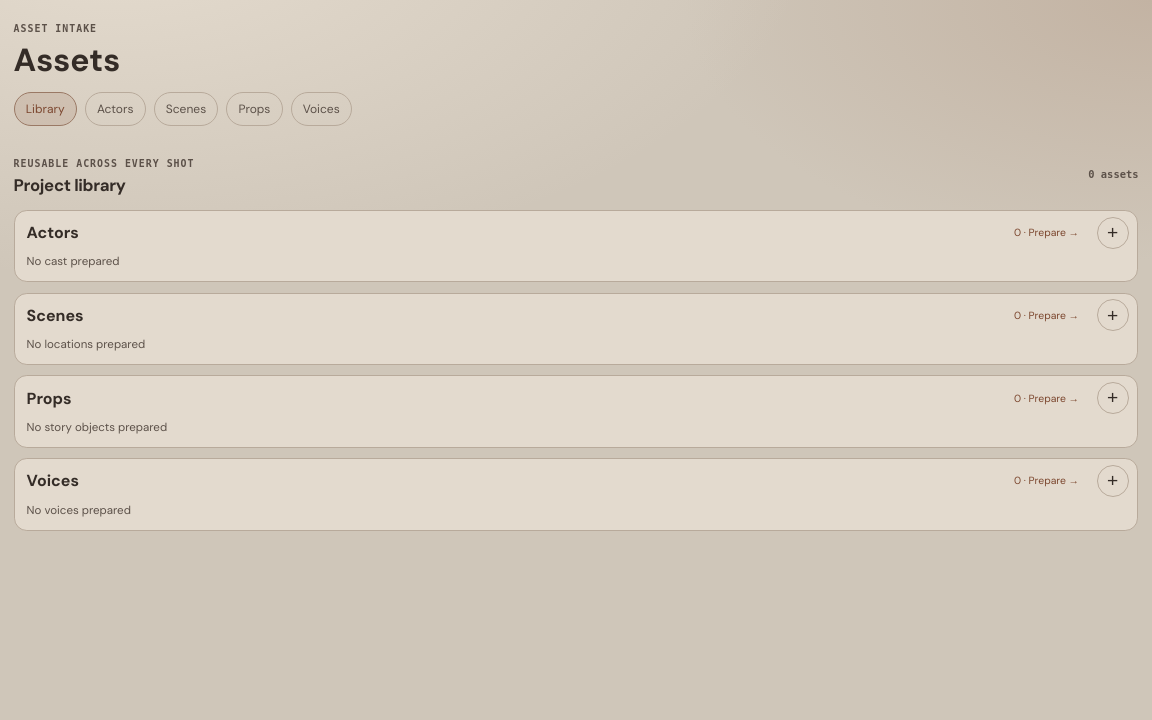
Scenario: MobileAssetWorkspace › opens import from the labeled action inside a mobile category
Expected: the button "Import" is not shown
Click the button "Props" at (254, 109), box [226,92,283,126]
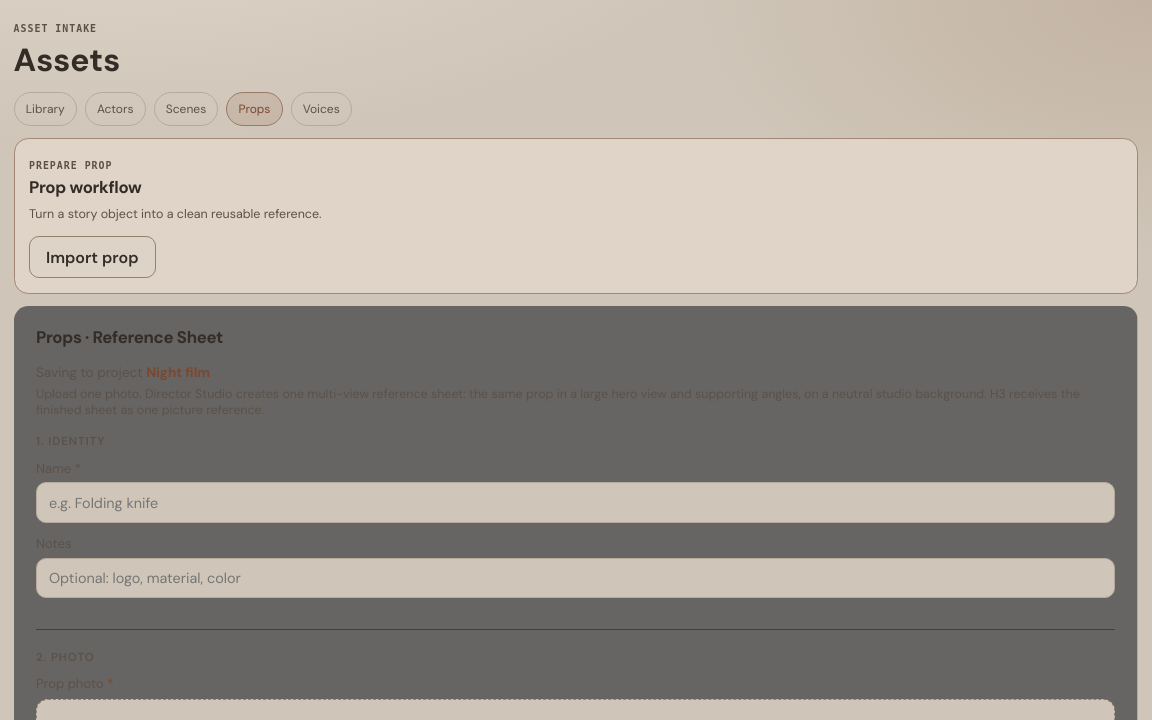
Click the button "Import prop" at (92, 257), box [29,236,156,278]
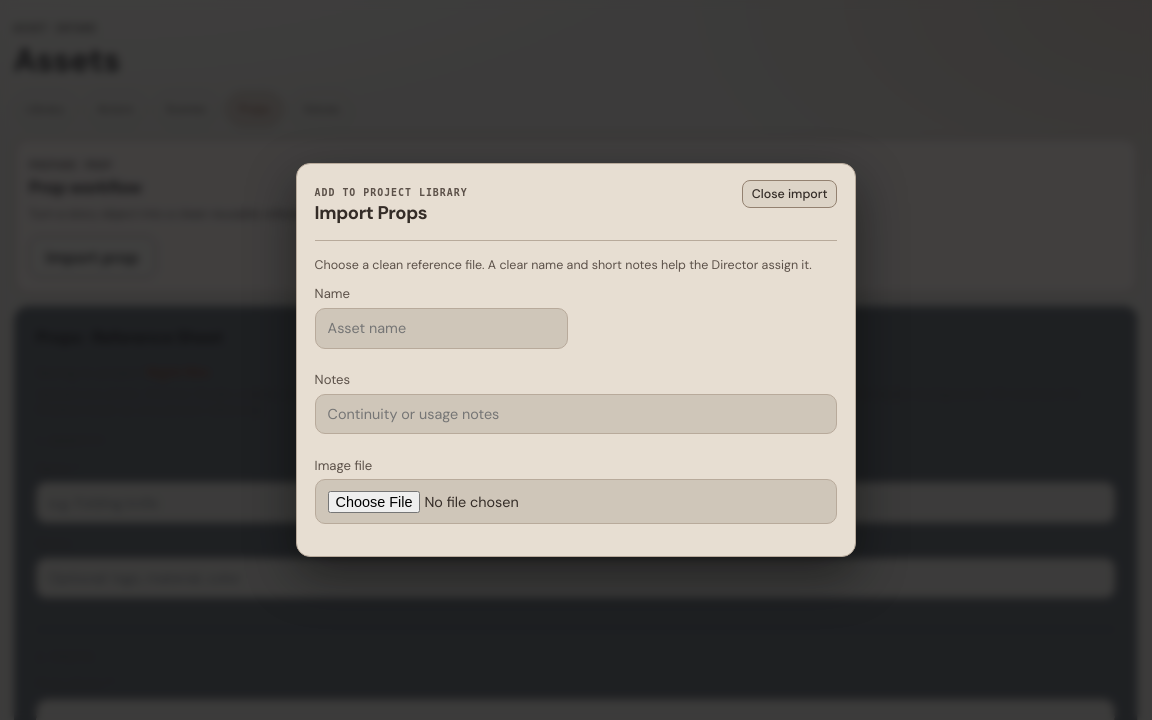
Expected: the dialog "Import Props" is shown
